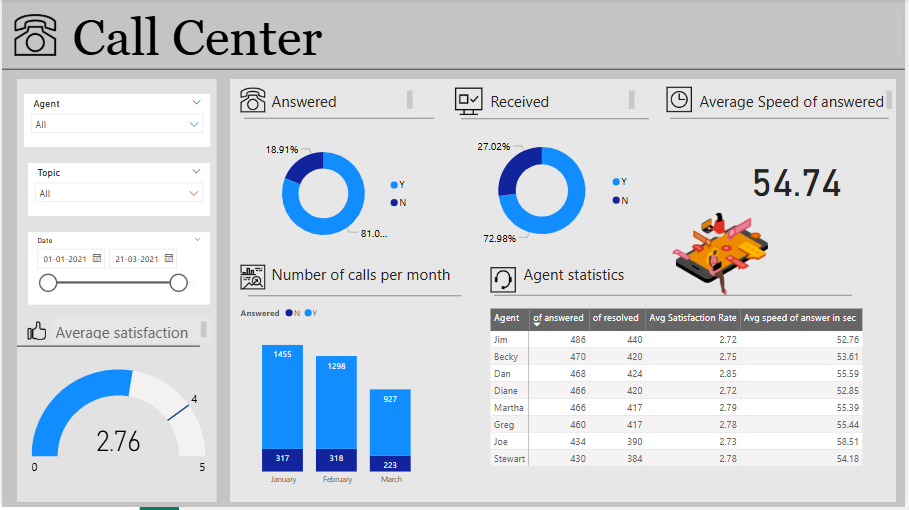

The page's visual inventory and layout, read from the dashboard file:
{"tool":"powerbi","page":{"name":"Call Center Manager","canvas":[1280,720],"ordinal":0},"visuals":[{"type":"textbox","title":"Call Center","box":[95,8.5,1184.9,85],"z":0},{"type":"image","box":[12.8,8.5,69.4,85],"z":1000},{"type":"shape","box":[0,79.4,1280,40.5],"z":2000},{"type":"slicer","fields":{"Values":["Call Center.Agent"]},"box":[34,134.6,258,75.1],"z":3000},{"type":"shape","box":[21.3,113.4,283.5,599.5],"z":4000},{"type":"slicer","fields":{"Values":["Call Center.Topic"]},"box":[36.9,232.4,258,75.1],"z":5000},{"type":"slicer","fields":{"Values":["Call Center.Date"]},"box":[36.9,330.2,258,103.5],"z":6000},{"type":"shape","box":[21.2,472.5,259.1,40.2],"z":7000},{"type":"textbox","box":[70.9,452.1,223.9,35.4],"z":8000},{"type":"image","box":[31.1,452.4,35.7,35.7],"z":9000},{"type":"gauge","fields":{"Y":["Avg(Call Center.Satisfaction rating)"],"MaxValue":["Max(Call Center.Satisfaction rating)1"],"TargetValue":["Call Center.Target Value Satisfaction"]},"box":[37.5,506.6,256.3,191.9],"z":10000},{"type":"shape","box":[323.1,113.4,943.9,599.5],"z":11000},{"type":"basicShape","box":[332.7,148.4,289.3,40.5],"z":12000},{"type":"basicShape","box":[640,149.9,286.3,39],"z":13000},{"type":"basicShape","box":[936.8,148.4,329.7,40.5],"z":14000},{"type":"textbox","box":[377.7,124.4,209.8,37.5],"z":15000},{"type":"image","box":[332.7,100.4,45,85.4],"z":16000},{"type":"image","box":[635.5,119.9,52.5,49.5],"z":17000},{"type":"textbox","box":[688,124.4,214.3,37.5],"z":18000},{"type":"image","box":[936.8,113.9,46.5,58.5],"z":19000},{"type":"textbox","box":[983.2,124.4,283.3,37.5],"z":20000},{"type":"donutChart","fields":{"Category":["Call Center.Answered (Y/N)"],"Y":["CountNonNull(Call Center.Answered (Y/N))"]},"box":[355.7,181.4,232.4,188.5],"z":21000},{"type":"donutChart","fields":{"Category":["Call Center.Resolved"],"Y":["CountNonNull(Call Center.Resolved)"]},"box":[660.5,172.9,242.4,197],"z":22000},{"type":"basicShape","box":[338.7,401.7,322.2,39],"z":23000},{"type":"image","box":[332.7,341.7,45,104.9],"z":24000},{"type":"textbox","box":[377.7,370.2,283.3,43.5],"z":25000},{"type":"columnChart","fields":{"Category":["Call Center.Date.Variation.Date Hierarchy.Month"],"Y":["CountNonNull(Call Center.Call Id)"],"Series":["Call Center.Answered (Y/N)"]},"box":[333.1,425.2,284.9,273.5],"z":26000},{"type":"image","box":[688,370.2,46.5,55.5],"z":27000},{"type":"basicShape","box":[688,400.2,527.6,40.5],"z":28000},{"type":"textbox","box":[734.4,370.2,469.1,43.5],"z":29000},{"type":"pivotTable","fields":{"Rows":["Call Center.Agent"],"Values":["Call Center.of answered","Call Center.of resolved","Avg(Call Center.Satisfaction rating)","Avg(Call Center.Speed of answer in seconds)"]},"box":[688,433.2,550.1,262.3],"z":30000},{"type":"card","fields":{"Values":["Avg(Call Center.Speed of answer in seconds)"]},"box":[1026.7,185.9,197.8,136.4],"z":31000},{"type":"image","box":[887.3,259.3,278.8,187.4],"z":31001},{"type":"slicer","fields":{"Values":["Call Center.Agent"]},"box":[31.5,134.9,263.8,74.9],"z":31002}]}

Visuals, with their boxes in screenshot pixels (x1, y1, x2, y2), scaled from the page's 1280x720 canvas onto the 909x510 screenshot:
"Call Center" textbox: {"left": 67, "top": 6, "right": 908, "bottom": 66}
image: {"left": 9, "top": 6, "right": 58, "bottom": 66}
shape: {"left": 0, "top": 56, "right": 908, "bottom": 85}
slicer - Call Center.Agent: {"left": 24, "top": 95, "right": 207, "bottom": 149}
shape: {"left": 15, "top": 80, "right": 216, "bottom": 505}
slicer - Call Center.Topic: {"left": 26, "top": 165, "right": 209, "bottom": 218}
slicer - Call Center.Date: {"left": 26, "top": 234, "right": 209, "bottom": 307}
shape: {"left": 15, "top": 335, "right": 199, "bottom": 363}
textbox: {"left": 50, "top": 320, "right": 209, "bottom": 345}
image: {"left": 22, "top": 320, "right": 47, "bottom": 346}
gauge - Avg(Call Center.Satisfaction rating) x Max(Call Center.Satisfaction rating)1: {"left": 27, "top": 359, "right": 209, "bottom": 495}
shape: {"left": 229, "top": 80, "right": 900, "bottom": 505}
basicShape: {"left": 236, "top": 105, "right": 442, "bottom": 134}
basicShape: {"left": 454, "top": 106, "right": 658, "bottom": 134}
basicShape: {"left": 665, "top": 105, "right": 899, "bottom": 134}
textbox: {"left": 268, "top": 88, "right": 417, "bottom": 115}
image: {"left": 236, "top": 71, "right": 268, "bottom": 132}
image: {"left": 451, "top": 85, "right": 489, "bottom": 120}
textbox: {"left": 489, "top": 88, "right": 641, "bottom": 115}
image: {"left": 665, "top": 81, "right": 698, "bottom": 122}
textbox: {"left": 698, "top": 88, "right": 899, "bottom": 115}
donutChart - Call Center.Answered (Y/N) x CountNonNull(Call Center.Answered (Y/N)): {"left": 253, "top": 128, "right": 418, "bottom": 262}
donutChart - Call Center.Resolved x CountNonNull(Call Center.Resolved): {"left": 469, "top": 122, "right": 641, "bottom": 262}
basicShape: {"left": 241, "top": 285, "right": 469, "bottom": 312}
image: {"left": 236, "top": 242, "right": 268, "bottom": 316}
textbox: {"left": 268, "top": 262, "right": 469, "bottom": 293}
columnChart - Call Center.Date.Variation.Date Hierarchy.Month x CountNonNull(Call Center.Call Id): {"left": 237, "top": 301, "right": 439, "bottom": 495}
image: {"left": 489, "top": 262, "right": 522, "bottom": 302}
basicShape: {"left": 489, "top": 283, "right": 863, "bottom": 312}
textbox: {"left": 522, "top": 262, "right": 855, "bottom": 293}
pivotTable - Call Center.Agent x Call Center.of answered: {"left": 489, "top": 307, "right": 879, "bottom": 493}
card - Avg(Call Center.Speed of answer in seconds): {"left": 729, "top": 132, "right": 870, "bottom": 228}
image: {"left": 630, "top": 184, "right": 828, "bottom": 316}
slicer - Call Center.Agent: {"left": 22, "top": 96, "right": 210, "bottom": 149}
